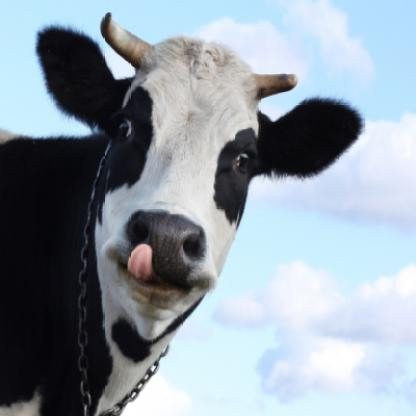lower: (150, 306, 163, 325)
mouth: (118, 210, 209, 335)
upper: (162, 234, 179, 253)
